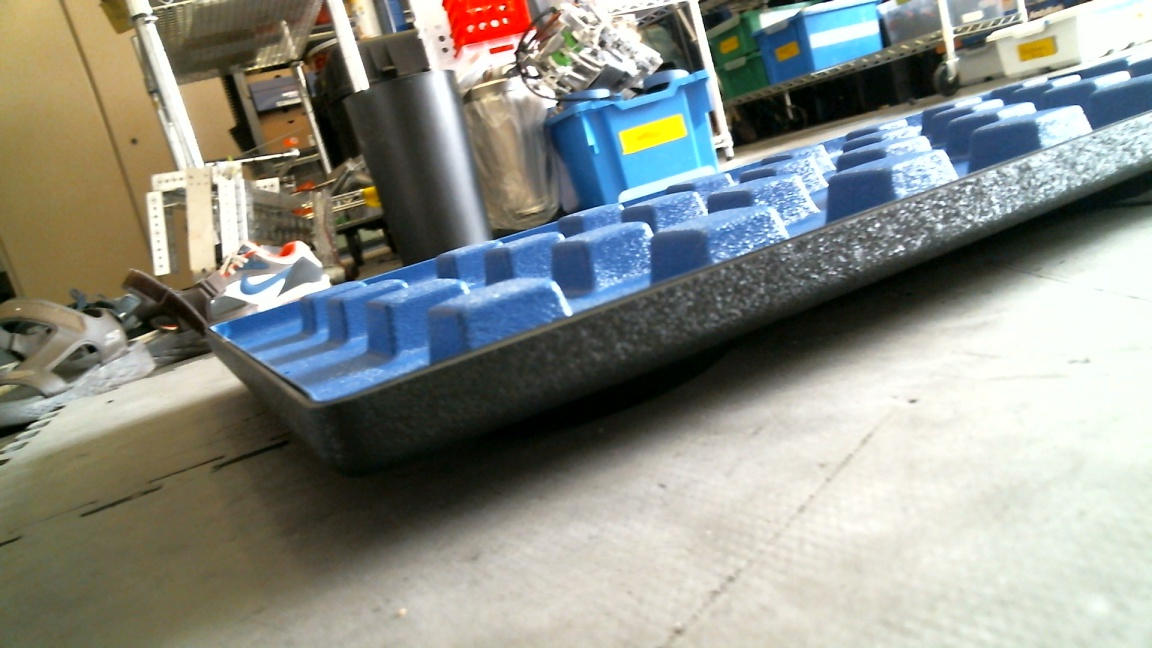blue_foundation: (202, 52, 1152, 474)
